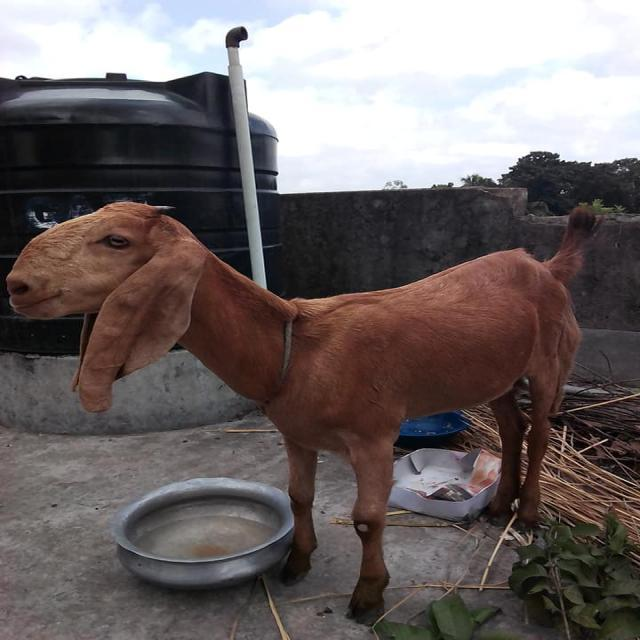Goat: (5, 198, 604, 619)
